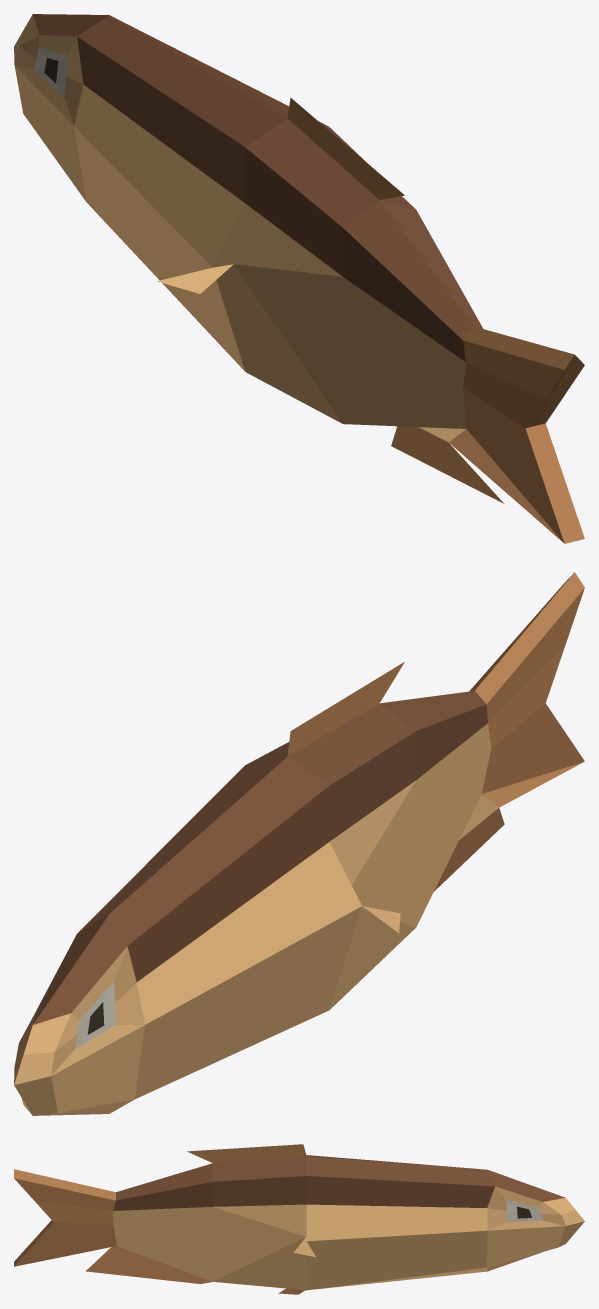
File: SardineCooked.glb
3 views of the same model, one above another, from view 1: azimuth 30°, elevation 25°; view 2: azimuth 150°, elevation 25°; view 3: azimuth 270°, elevation 25° (orthographic). The views are drawn at different scales.
Parts seen in each view (by area): view 1: EXPORT_cooked_sardine; view 2: EXPORT_cooked_sardine; view 3: EXPORT_cooked_sardine.
Boxes of the visible parts, left/top/right/bottom form: EXPORT_cooked_sardine: left=14, top=14, right=584, bottom=543; EXPORT_cooked_sardine: left=14, top=572, right=584, bottom=1115; EXPORT_cooked_sardine: left=14, top=1144, right=584, bottom=1294.
Size of the model in its own units: 0.0446 by 0.0522 by 0.1792.
